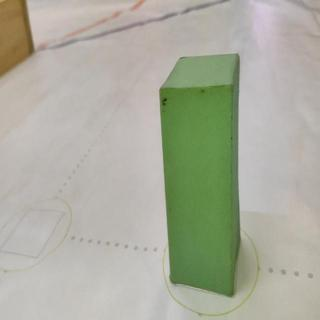greenbox: (159, 51, 240, 297)
